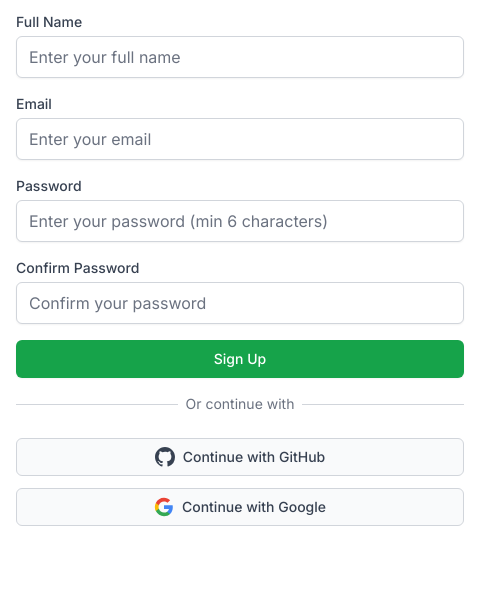
Test: RegisterForm › handles unexpected errors gracefully
In the field labelled "Full Name": [240, 57] box [16,36,464,78], type "John Doe"
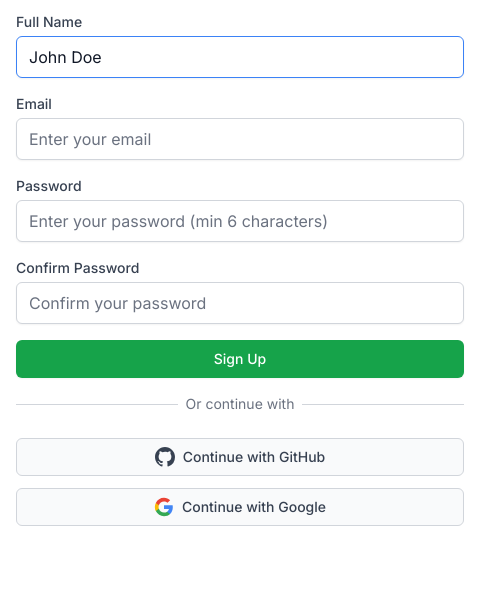
In the field labelled "Email": [240, 139] box [16,118,464,160], type "john@example.com"
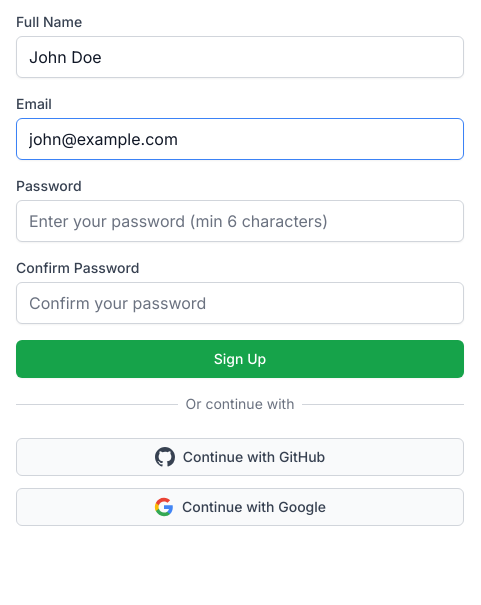
In the password field labelled "Password": [240, 221] box [16,200,464,242], type "password123"
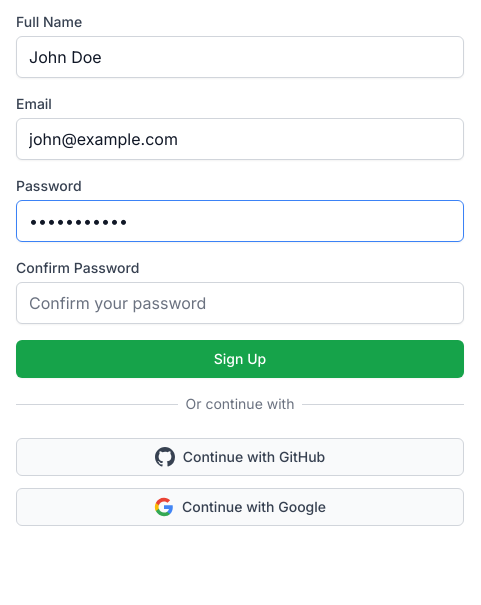
In the password field labelled "Confirm Password": [240, 303] box [16,282,464,324], type "password123"
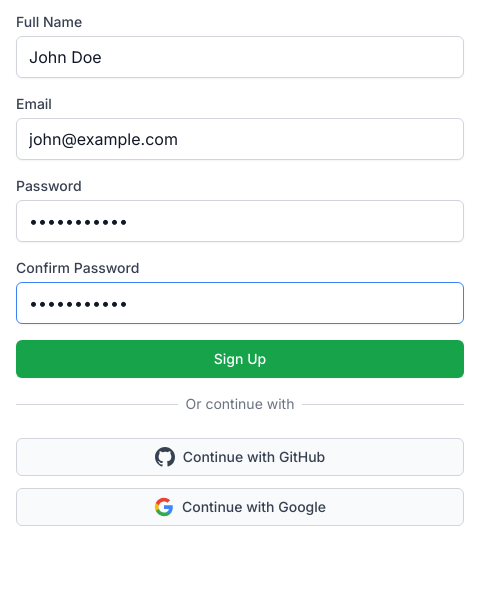
Click the button "Sign Up": [240, 359] box [16,340,464,378]
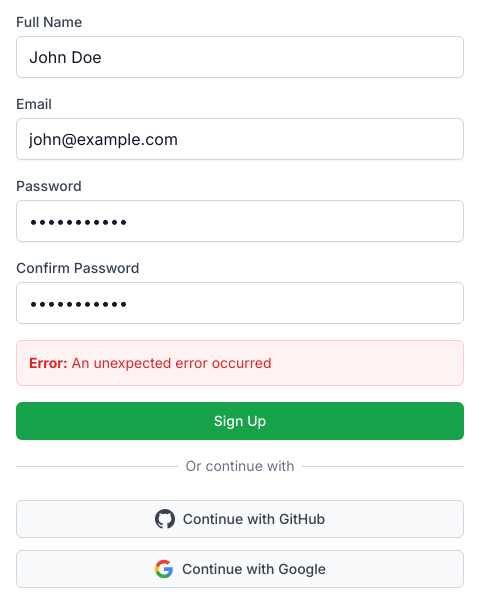
Result: the text "Error: An unexpected error occurred" is shown at [16,340,464,386]
